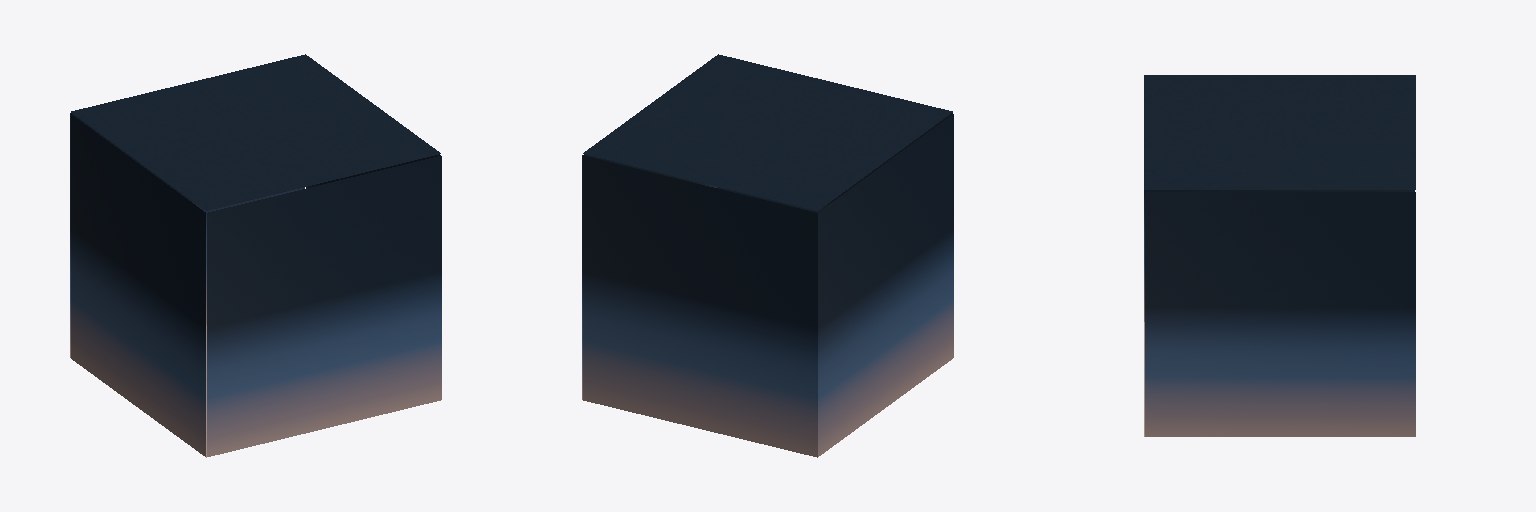
3 views of the same model, side by side, from view 1: azimuth 30°, elevation 25°; view 2: azimuth 150°, elevation 25°; view 3: azimuth 270°, elevation 25° (orthographic).
Parts seen in each view (by area): view 1: 立方体; view 2: 立方体; view 3: 立方体.
Part boxes in pixels (left/top/right/bottom): 立方体: left=70, top=54, right=441, bottom=457; 立方体: left=582, top=54, right=953, bottom=457; 立方体: left=1144, top=75, right=1415, bottom=436.
Size of the model in its own units: 20.36 by 20.36 by 20.36.
Materials: 1 (1 with a texture image).